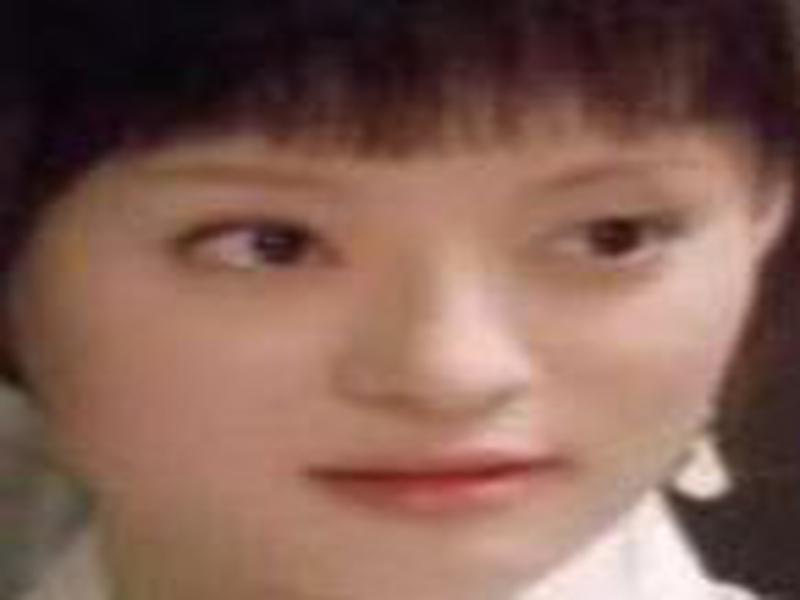without_mask: (55, 129, 742, 600)
